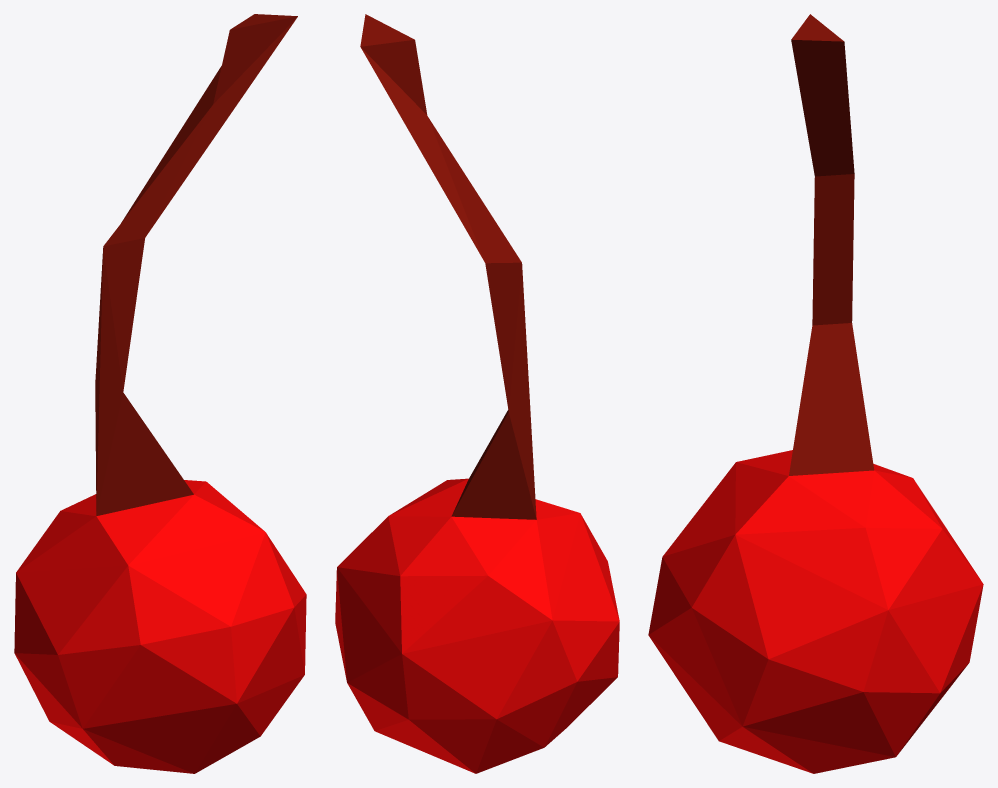
File: Cherry.fbx
3 renders of one model, left to right at view 1: azimuth 30°, elevation 25°; view 2: azimuth 150°, elevation 25°; view 3: azimuth 270°, elevation 25°, orthographic. The views are drawn at different scales.
Parts seen in each view (by area): view 1: Cherry; view 2: Cherry; view 3: Cherry.
Boxes of the visible parts, x1,y1,x2,y2 form: Cherry: (14, 14, 306, 773); Cherry: (335, 14, 619, 773); Cherry: (648, 14, 983, 773).
Size of the model in its own units: 3.08 by 8.34 by 3.28.
